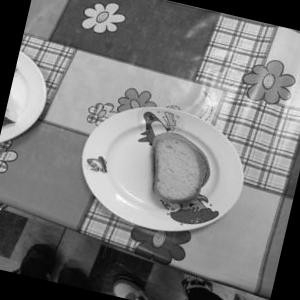bread: (123, 107, 224, 220)
